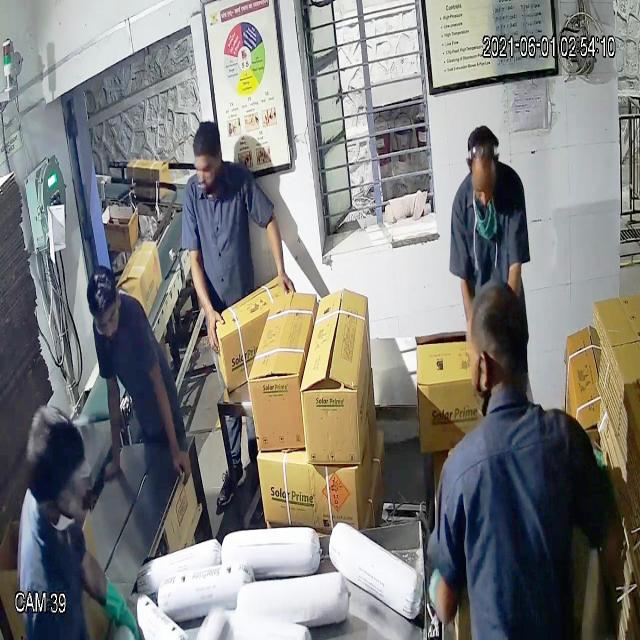glasses: (86, 300, 123, 344)
